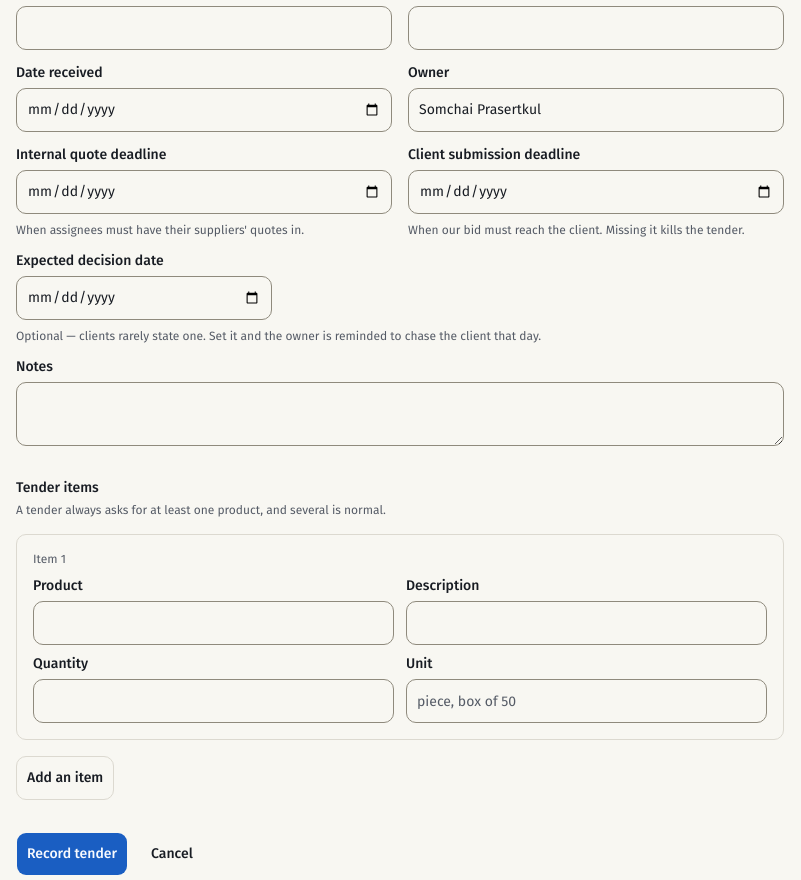
gives the per-row Remove a thumb-sized target: in en
(page scrolled)
Click the button "Add an item": (65, 778) [16,756,114,800]
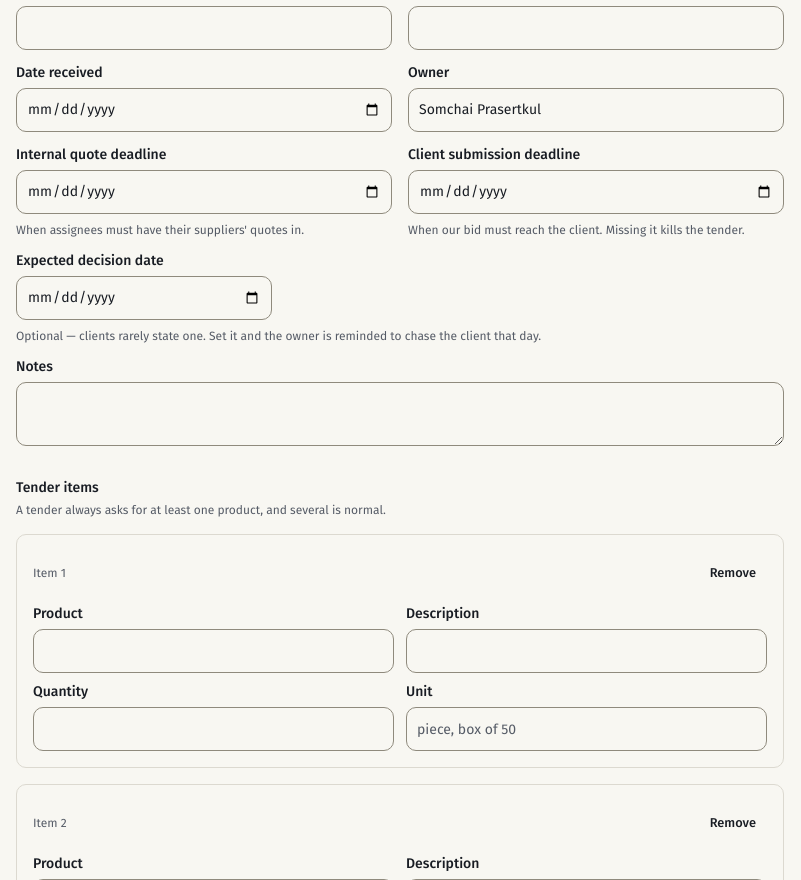
Check: the number of buttons "Remove" is 2, box [699,551,767,595]; [699,801,767,845]
